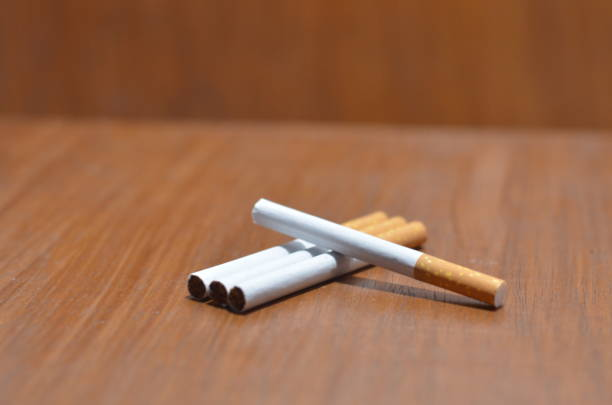cigarette: (250, 195, 508, 308), (228, 220, 429, 314), (185, 208, 388, 301), (208, 216, 406, 305)
